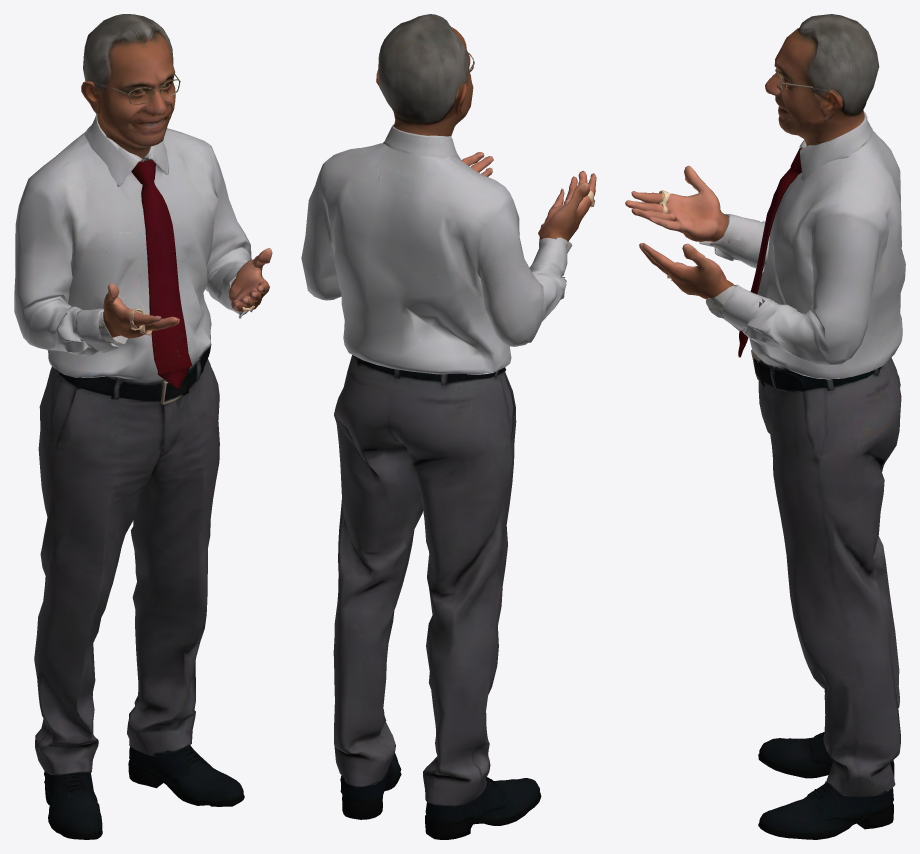
File: speaker-prof-m.glb
3 renders of one model, left to right at view 1: azimuth 30°, elevation 25°; view 2: azimuth 150°, elevation 25°; view 3: azimuth 270°, elevation 25°, orthographic.
Visible parts, largest first — view 1: geometry_0; view 2: geometry_0; view 3: geometry_0.
Boxes of the visible parts, <box> form: geometry_0: <box>14,14,272,839</box>; geometry_0: <box>301,14,596,839</box>; geometry_0: <box>625,14,905,839</box>.
Bounding box in the file's own units: 0.294 × 0.9507 × 0.3091.
Materials: 1 (1 with a texture image).
